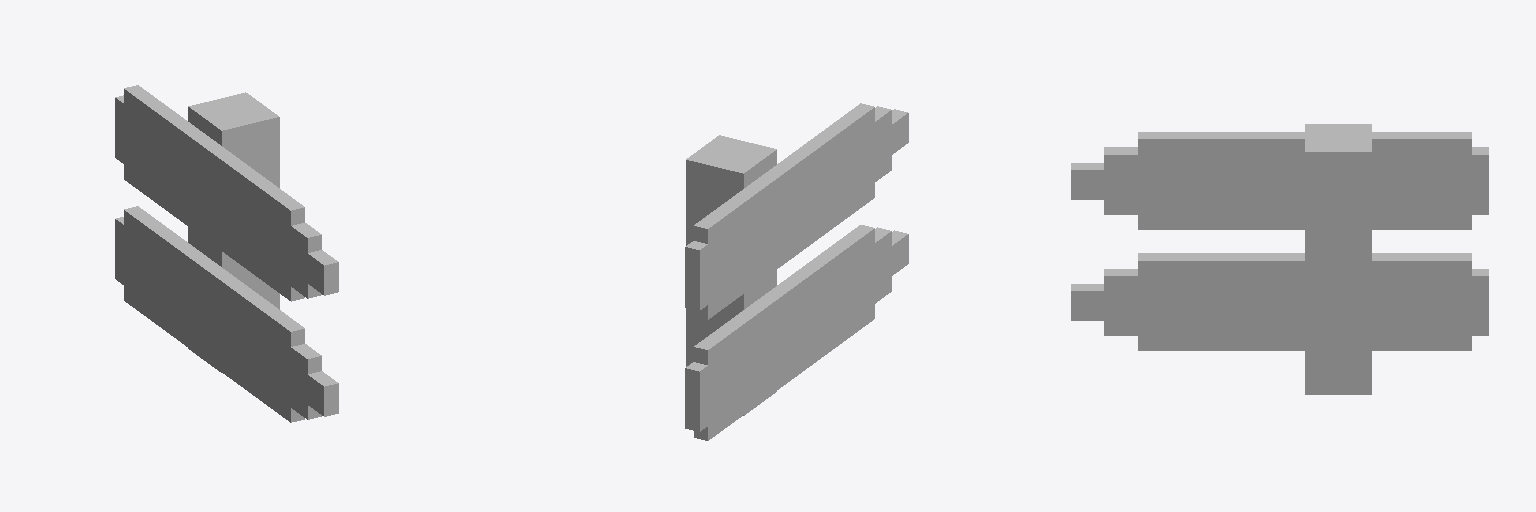
File: preview.obj
The picture shows the model from 3 angles: view 1: azimuth 30°, elevation 25°; view 2: azimuth 150°, elevation 25°; view 3: azimuth 270°, elevation 25°; orthographic projection.
Parts seen in each view (by area): view 1: Plane.001, Plane; view 2: Plane.001, Plane; view 3: Plane.001, Plane.
Part boxes in pixels (x1,y1,x2,y2): Plane.001: (115, 85, 338, 422); Plane: (188, 92, 279, 372); Plane.001: (685, 103, 908, 440); Plane: (686, 135, 776, 415); Plane.001: (1071, 132, 1488, 350); Plane: (1305, 124, 1371, 394).
Size of the model in its own units: 0.3125 by 1 by 1.56.